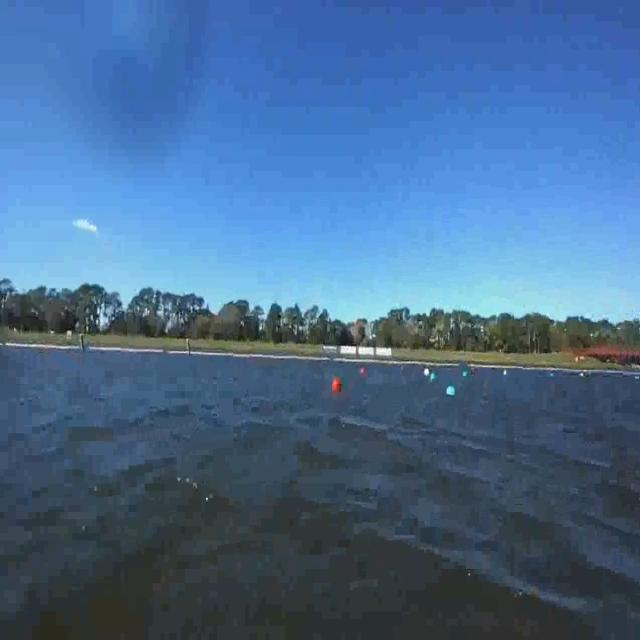green-buoy: (430, 370, 438, 388), (447, 384, 457, 397), (462, 369, 469, 382)
red-buoy: (334, 377, 343, 394), (360, 366, 366, 379)
